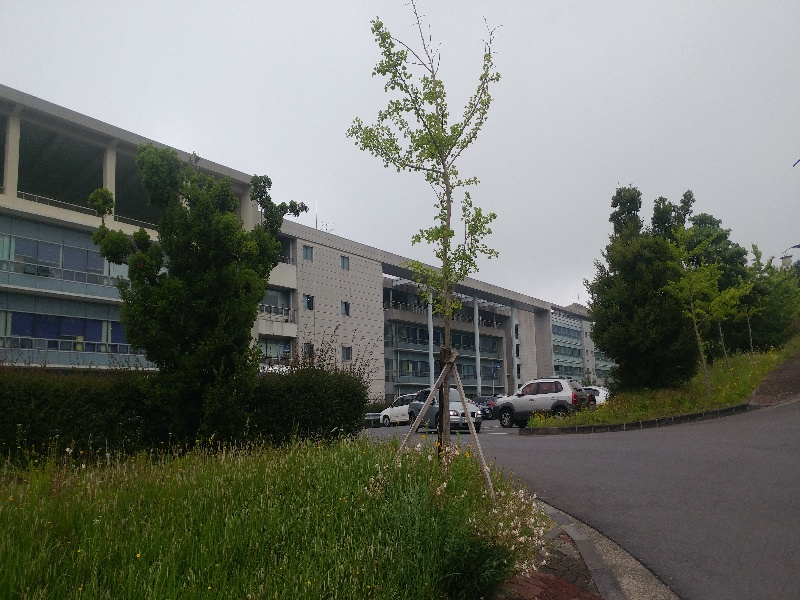College of Marine Science: (555, 305, 600, 379)
Engineering College Building 4: (2, 100, 137, 358), (300, 245, 539, 377)
